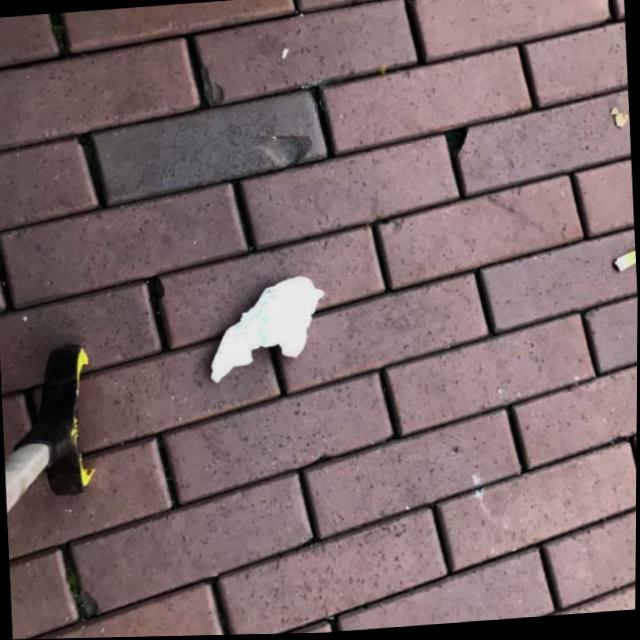Paper: (205, 273, 329, 387)
